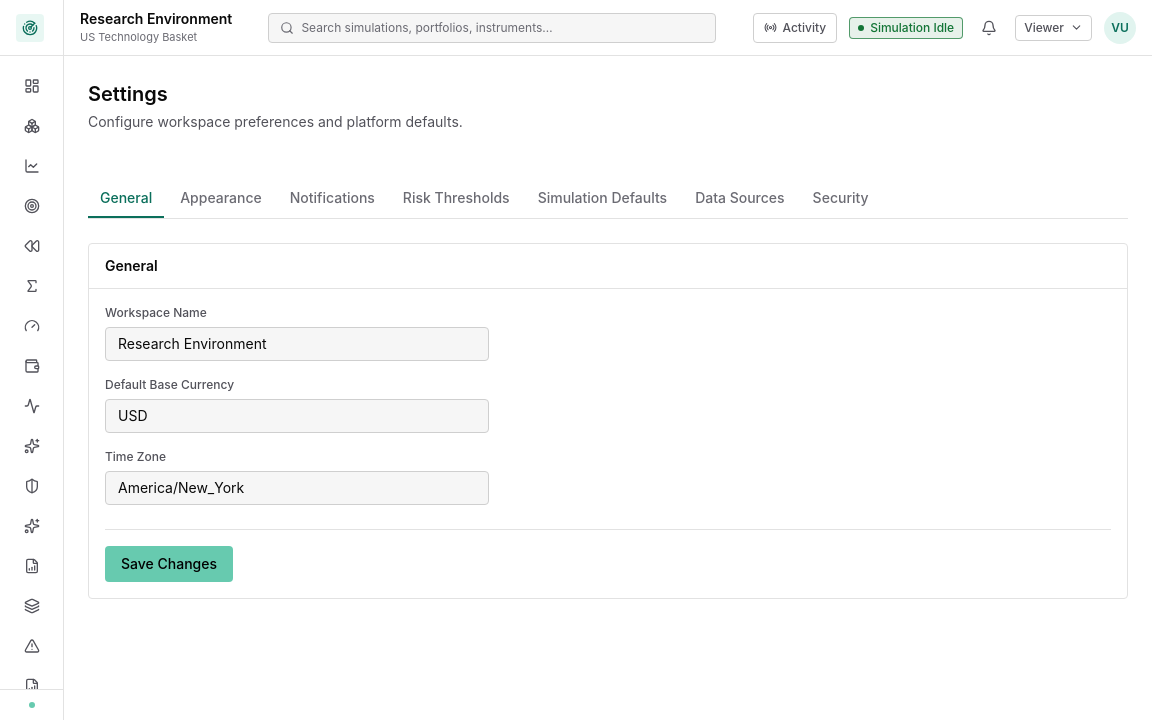
Test: changing your own password › changes the password and keeps this tab signed in with the new session
This screenshot has width=1152, height=720.
Click the button "Security".
click(841, 199)  # box [801,180,880,218]
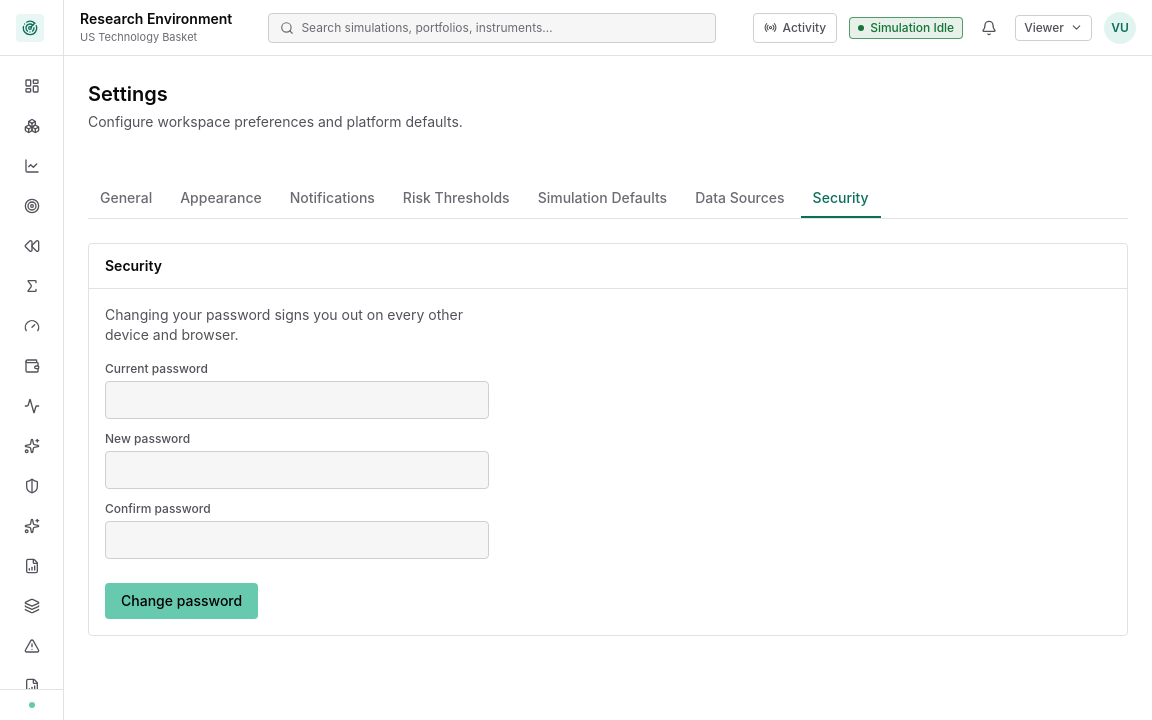
Type "old-password-123" into the password field labelled "Current password".
click(297, 400); type("old-password-123")  # box [105,381,489,419]
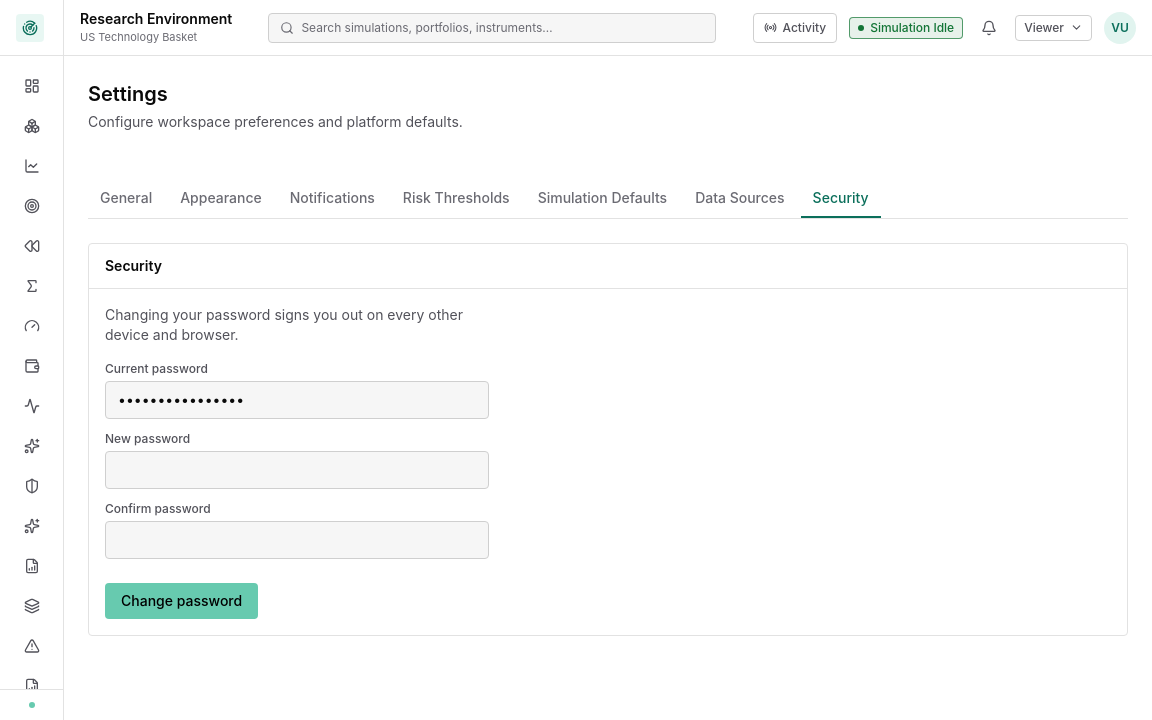
Type "brand-new-password-1" into the password field labelled "New password".
click(297, 470); type("brand-new-password-1")  # box [105,451,489,489]
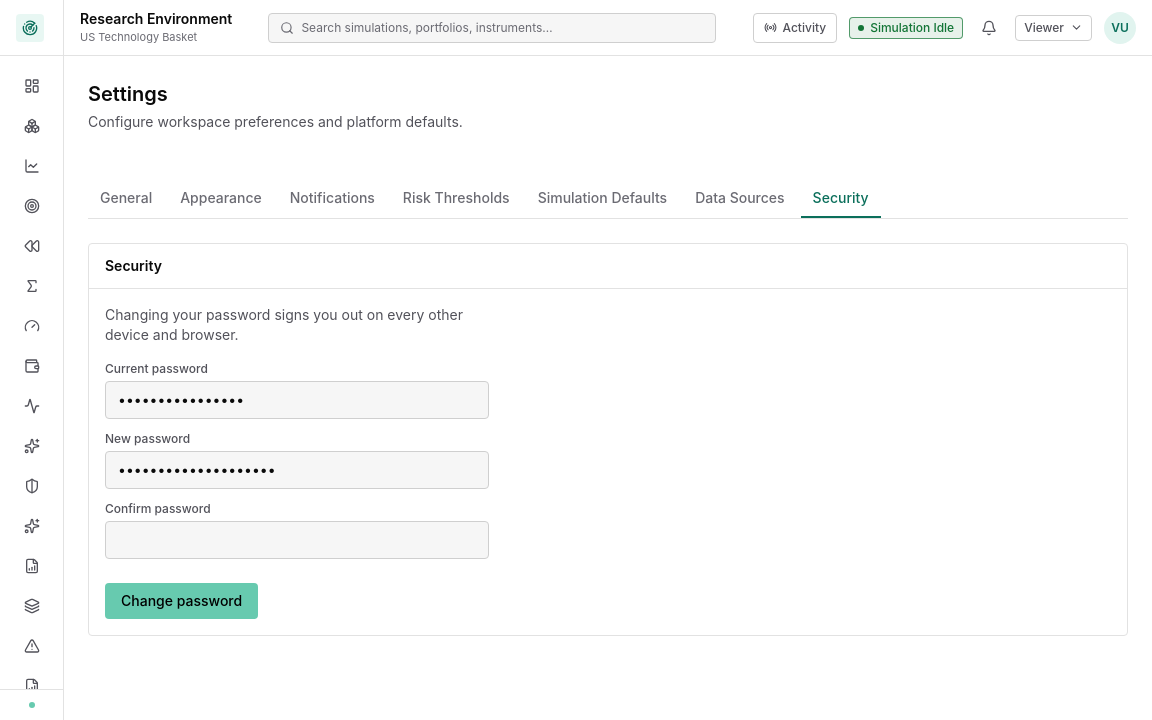
Type "brand-new-password-1" into the password field labelled "Confirm password".
click(297, 540); type("brand-new-password-1")  # box [105,521,489,559]
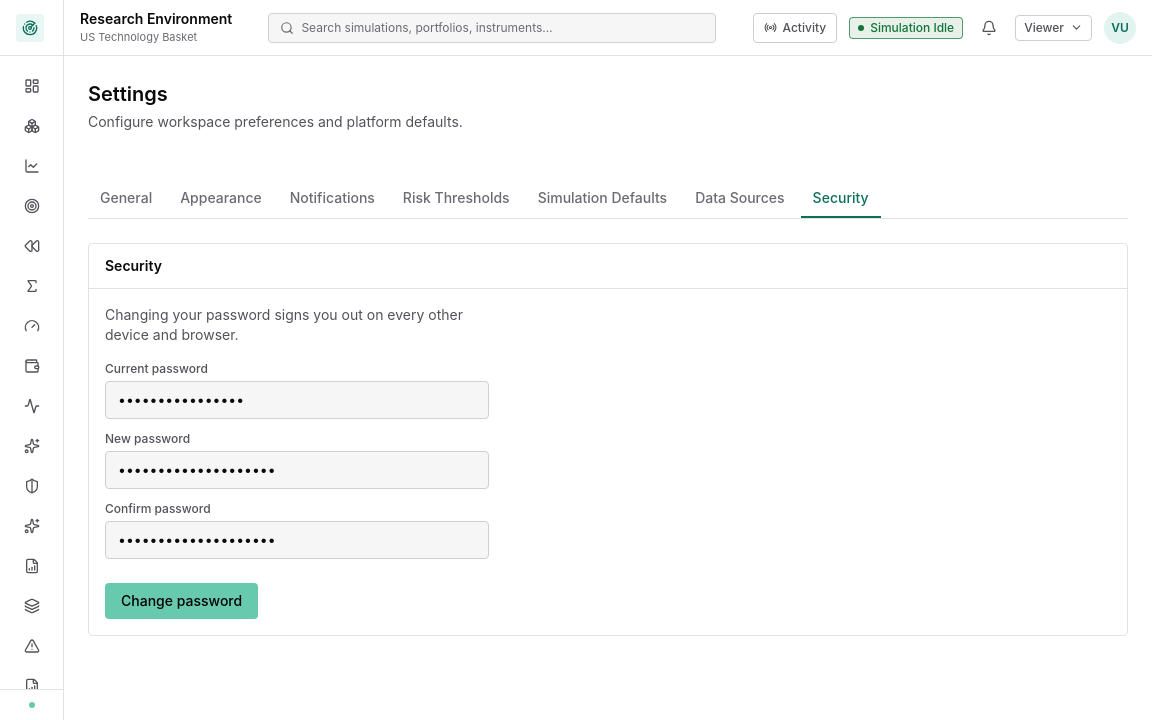
Click the button "Change password".
click(182, 601)  # box [105,583,258,619]
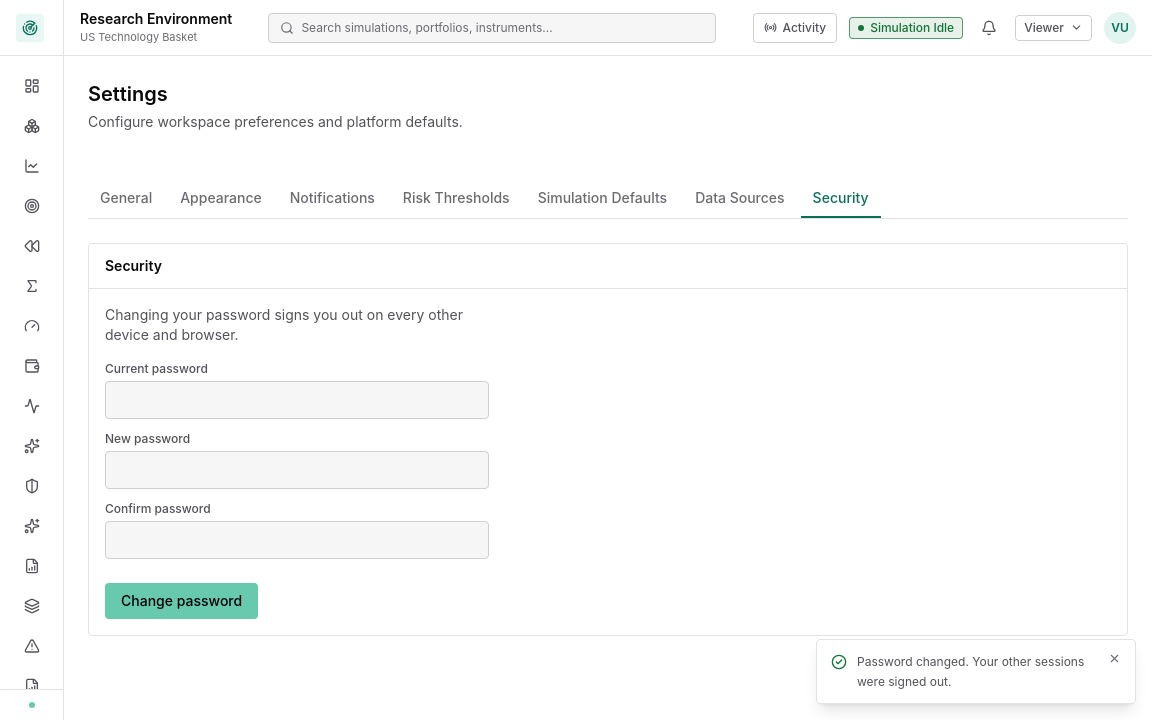
Check: the text "Password changed. Your other sessions were signed out." is shown, box [857,652,1098,691]
Check: the password field labelled "Current password" is empty, box [105,381,489,419]
